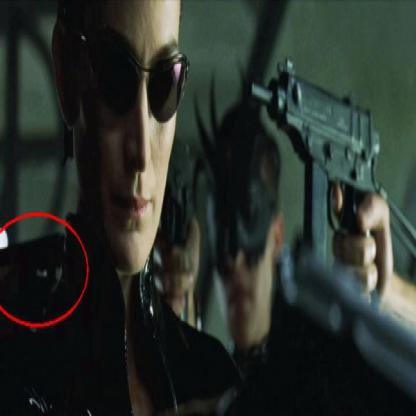Gun: (248, 49, 406, 288), (0, 214, 81, 343), (161, 129, 200, 321)
